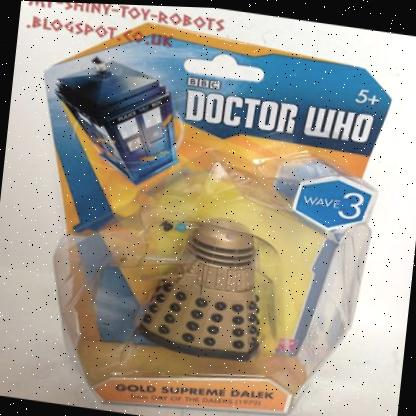dalek: (108, 185, 304, 376)
